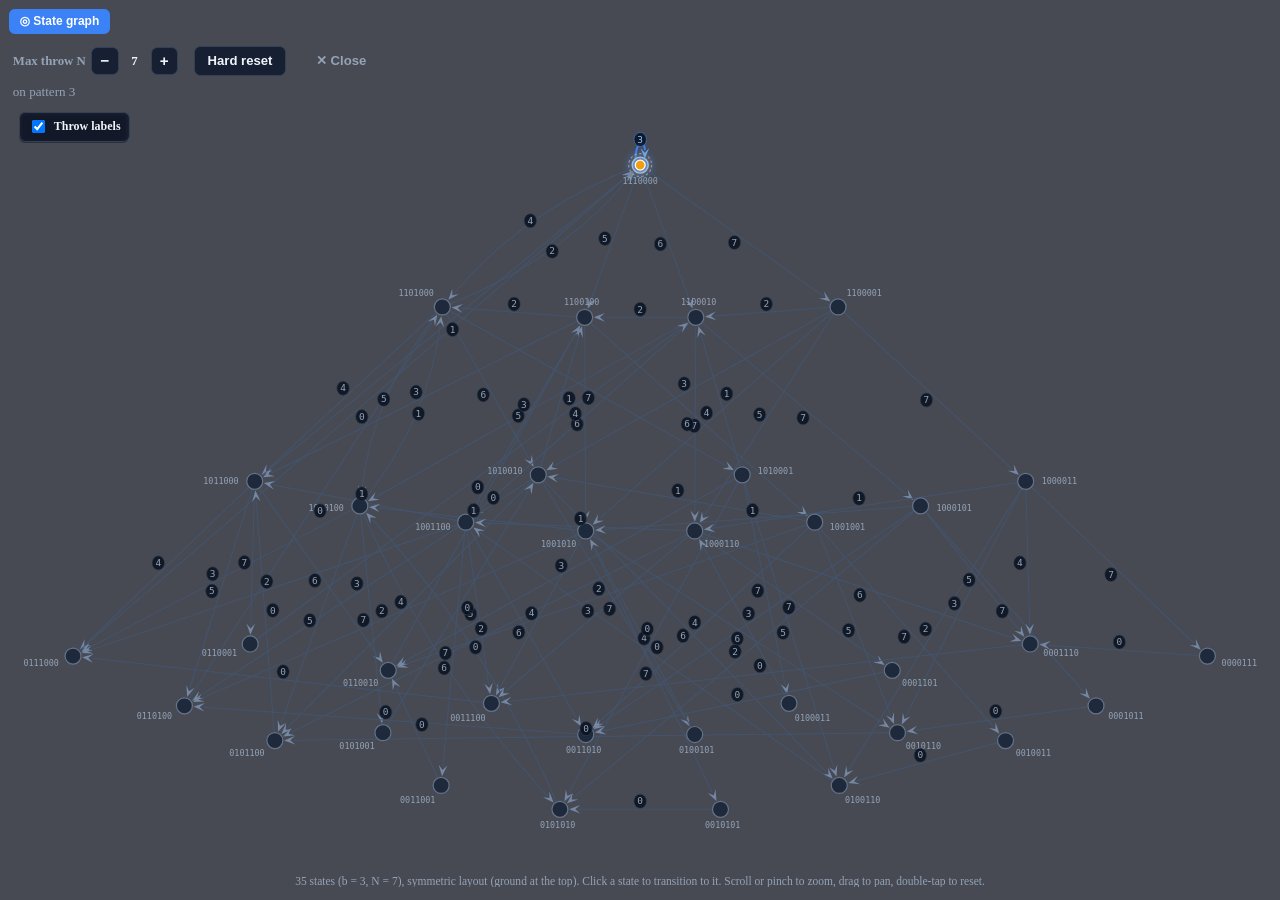
Test case: StateGraph panel (ui layer) › steps N and shows the density warning at N ≥ 9
The width and height of the screenshot is (1280, 900).
Expected: the text "grows combinatorially" is not shown
Click the button named "Max throw N increase".
click(164, 61)  # box [150,47,178,75]
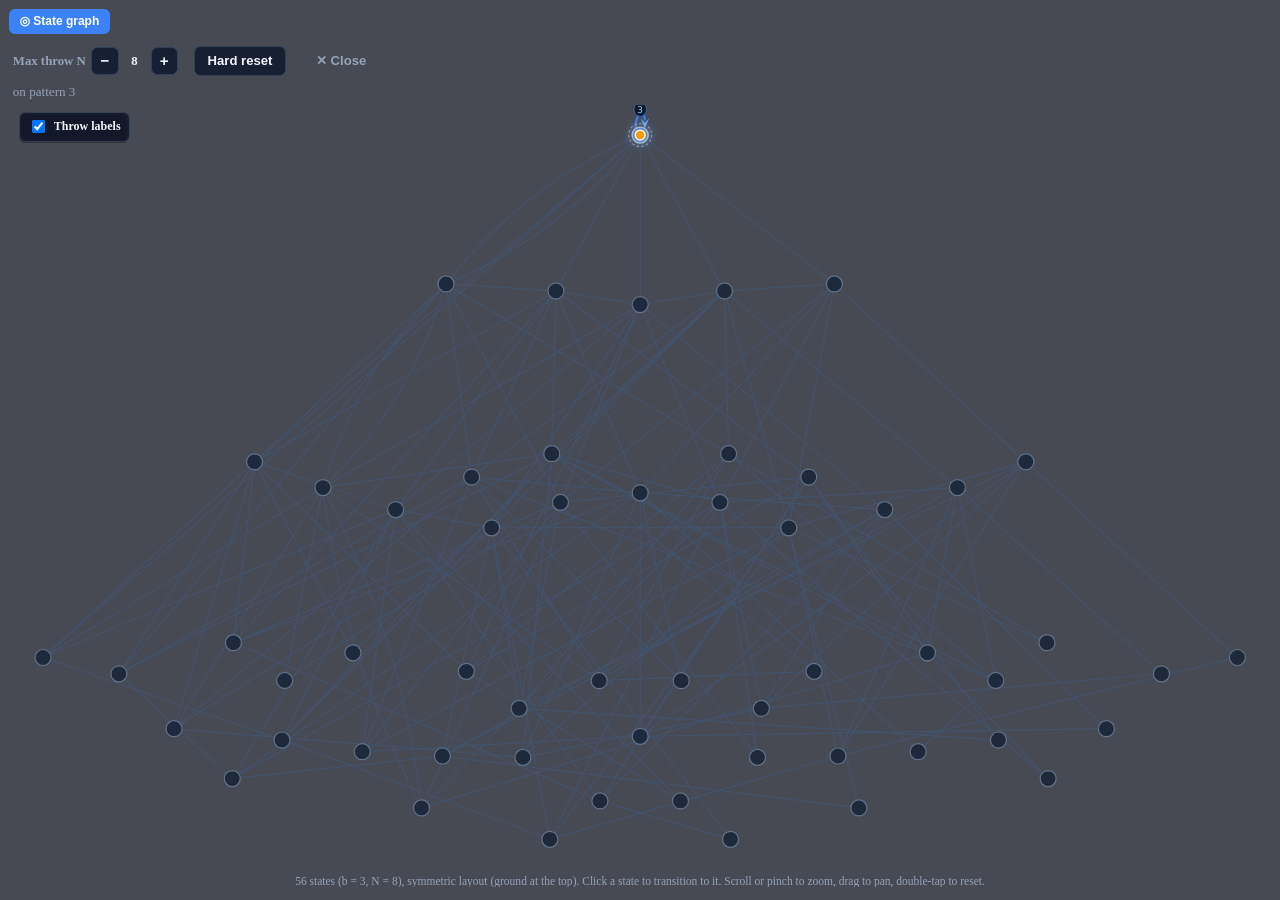
Click the button named "Max throw N increase".
click(164, 61)  # box [150,47,178,75]
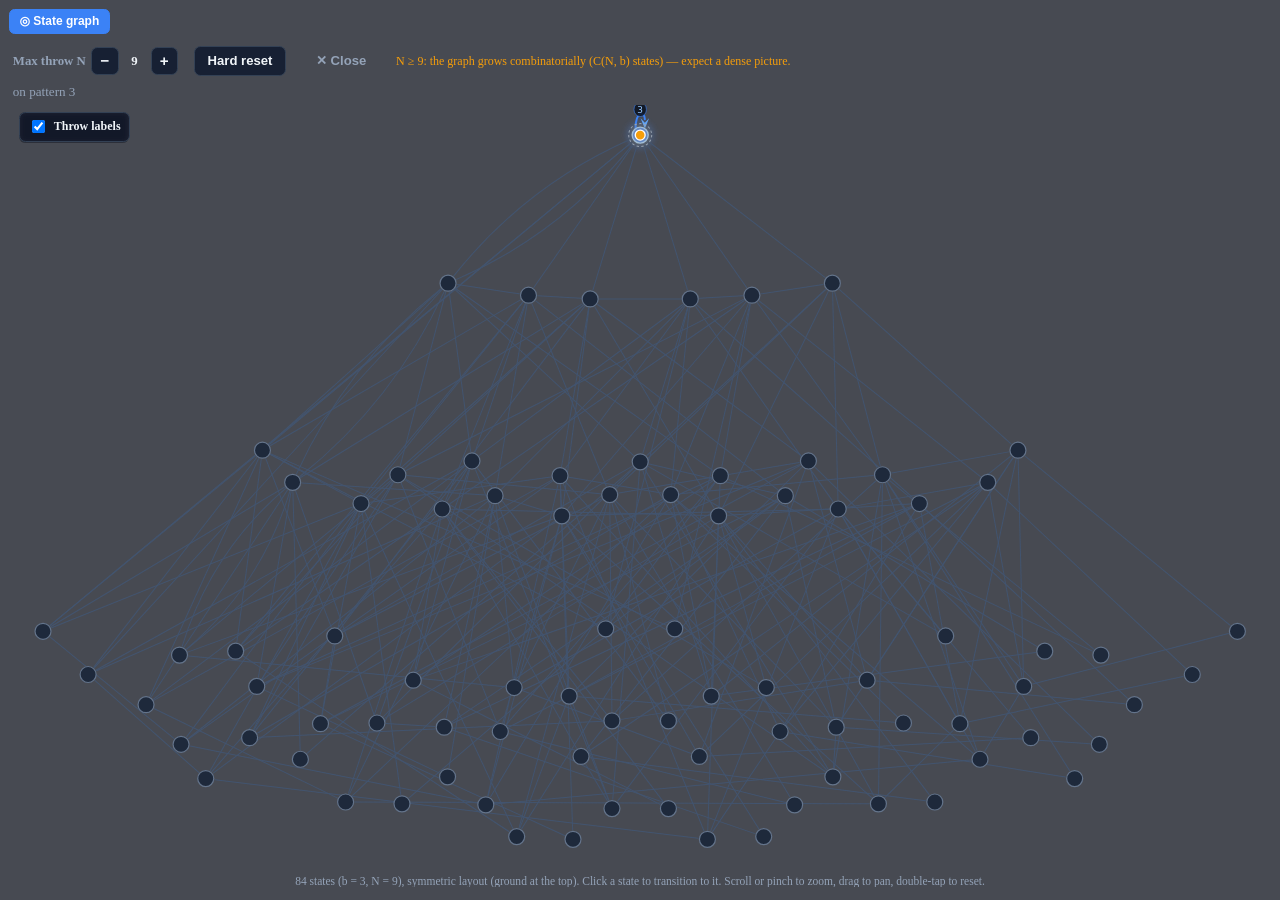
Result: the text "grows combinatorially" is shown at [423,54,791,68]
